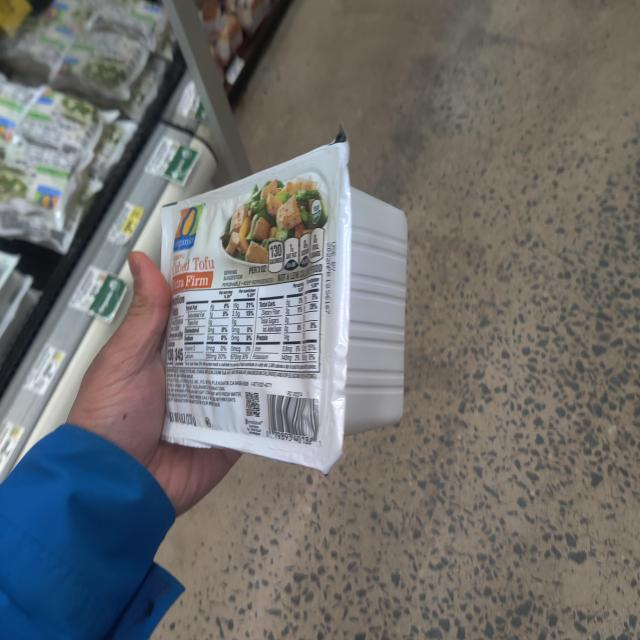Tofu: (112, 158, 430, 466)
